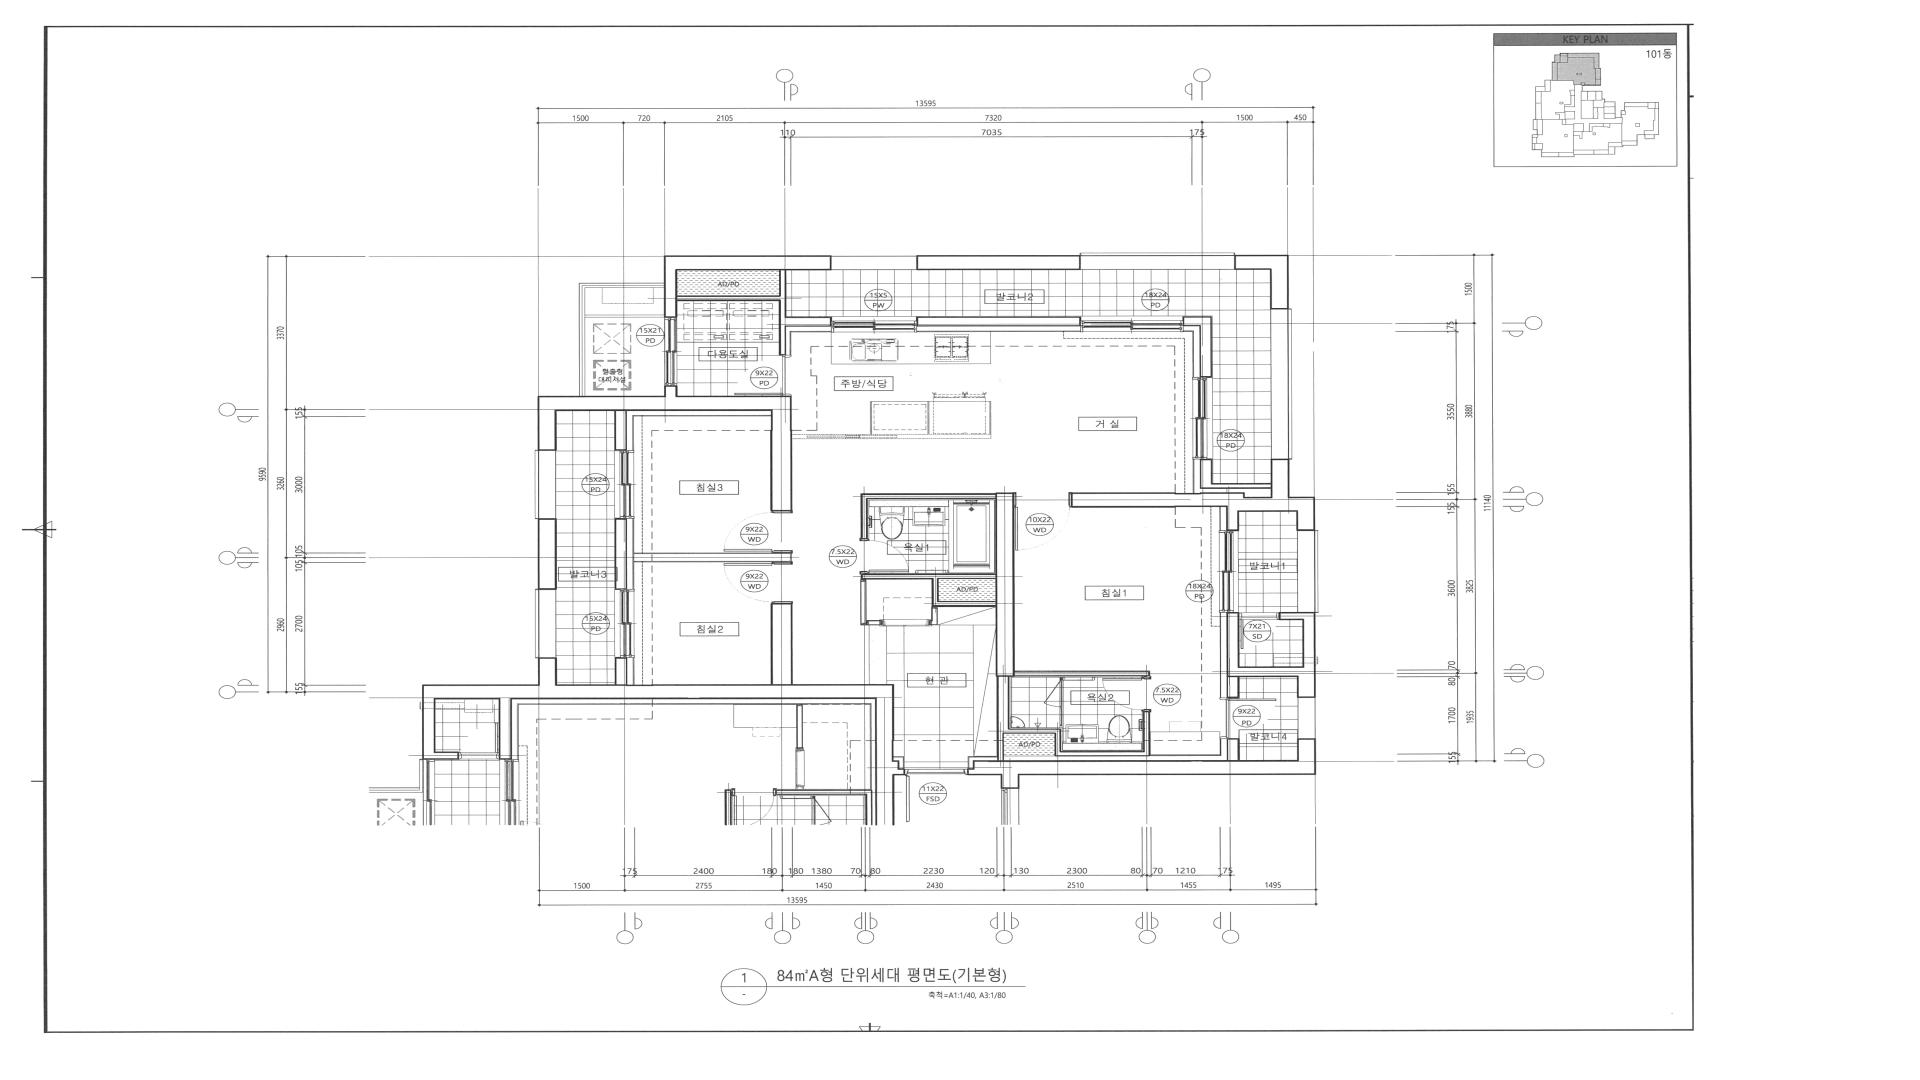door: (1014, 492, 1072, 551), (905, 769, 968, 823), (724, 560, 793, 603), (724, 510, 793, 553), (735, 355, 791, 396), (1220, 698, 1276, 738), (860, 539, 909, 574), (1102, 676, 1151, 711), (1240, 613, 1279, 649), (1043, 678, 1064, 707), (880, 620, 932, 626)
wall: (538, 658, 905, 775), (538, 385, 793, 510), (1072, 459, 1315, 531), (996, 676, 1151, 761), (676, 270, 832, 355), (967, 738, 1316, 775), (663, 256, 832, 318), (579, 282, 663, 396), (1226, 612, 1316, 698), (861, 493, 996, 539), (861, 572, 996, 607), (996, 493, 1015, 676), (1234, 255, 1288, 310), (916, 255, 1081, 270), (1201, 459, 1271, 488), (1183, 315, 1213, 377), (770, 603, 793, 684), (916, 316, 1080, 327), (634, 553, 793, 562), (538, 518, 556, 589), (615, 518, 626, 589), (1014, 671, 1150, 676), (615, 411, 626, 451), (616, 658, 628, 684), (1226, 676, 1240, 698), (1228, 738, 1240, 760), (861, 579, 866, 625), (585, 315, 663, 318), (932, 607, 938, 625), (866, 620, 880, 625)
window: (1271, 309, 1292, 459), (1080, 253, 1234, 269), (1080, 315, 1183, 332), (1192, 377, 1213, 459), (1298, 530, 1319, 612), (1220, 530, 1238, 613), (535, 589, 556, 658), (535, 451, 556, 518), (615, 450, 634, 518), (831, 316, 916, 332), (615, 589, 634, 658), (831, 256, 916, 270), (665, 318, 678, 385), (1298, 698, 1315, 738), (1059, 707, 1064, 728)
